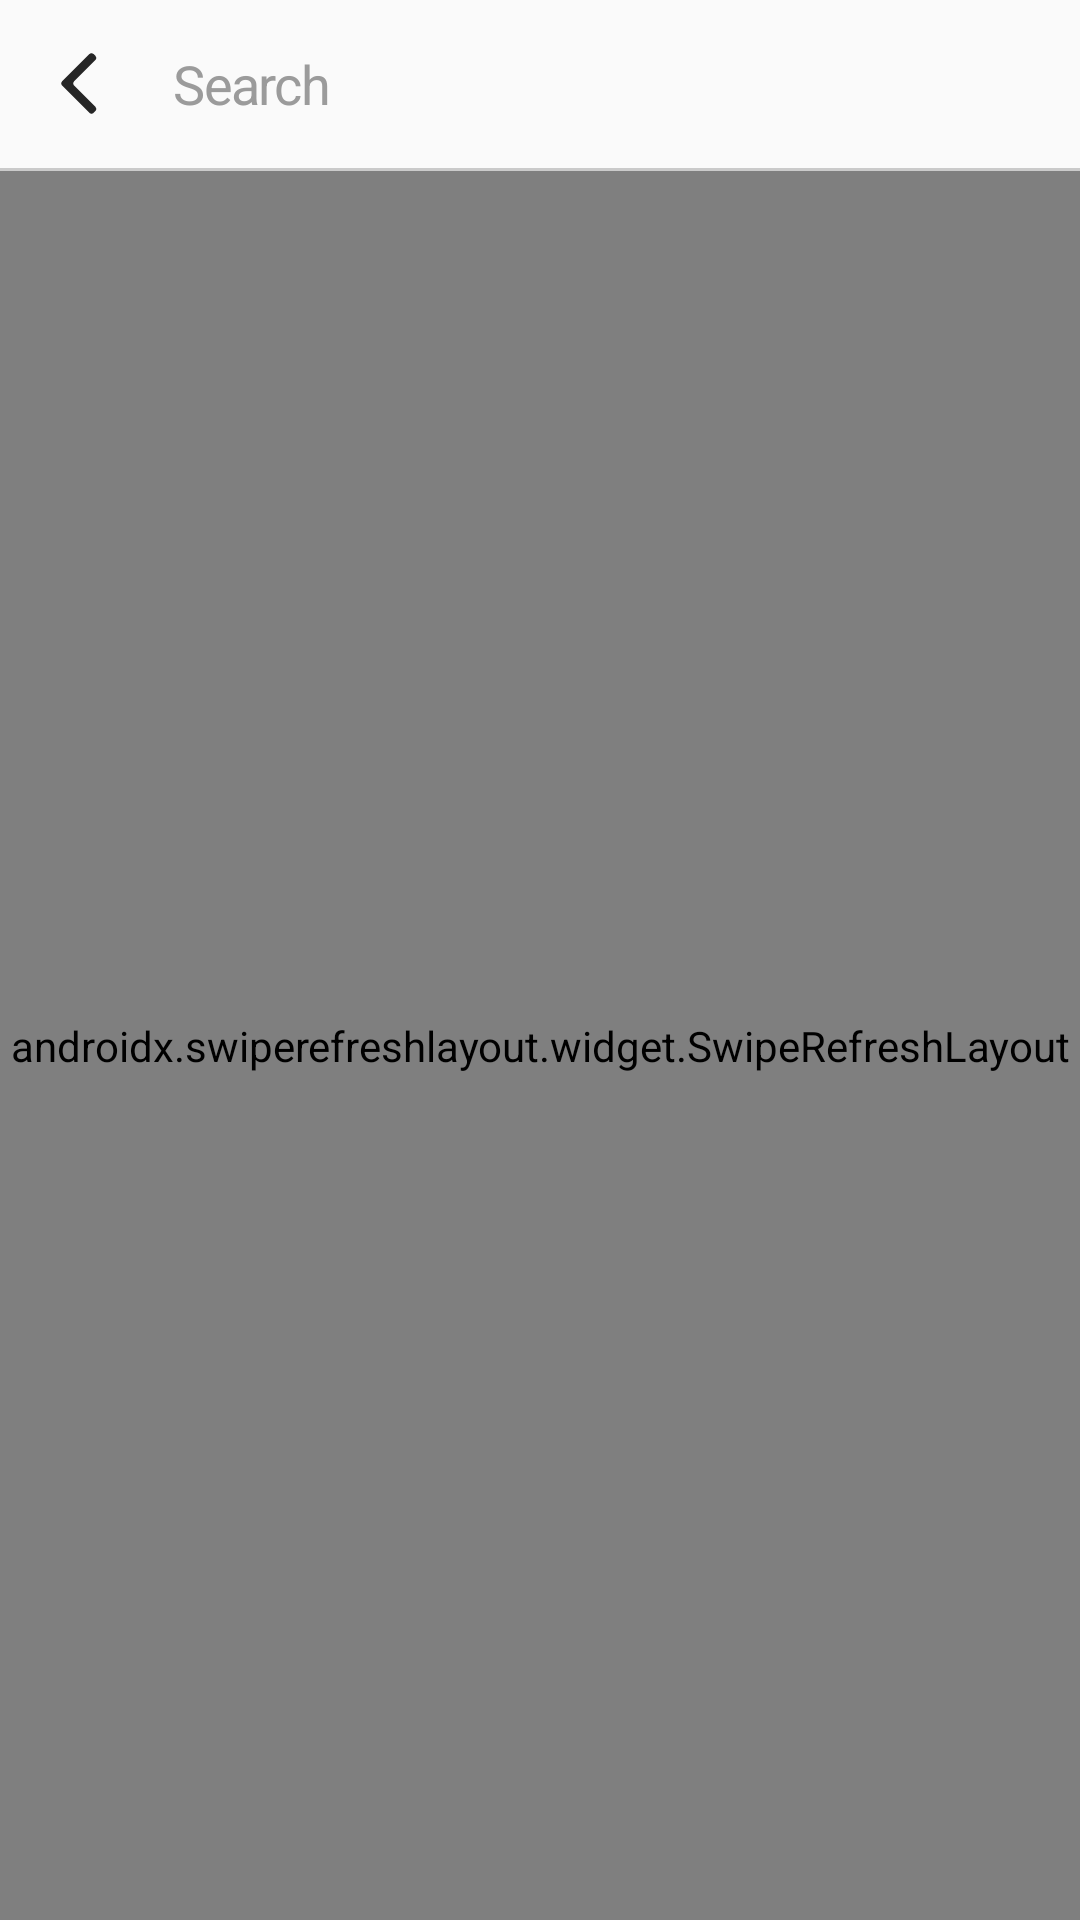

Where to tap for icons on this 1080 × 1920 app screen, as (x,y):
Button back: (79,83)
